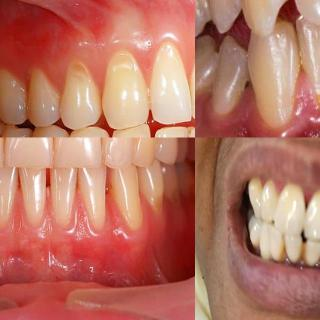Gum Swelling: (223, 70, 320, 138), (0, 190, 60, 247), (71, 34, 120, 97), (123, 24, 165, 86), (92, 195, 137, 249), (59, 191, 93, 250), (169, 25, 195, 71)
cavities: (238, 78, 254, 95)
maligned: (214, 36, 251, 122), (195, 32, 217, 96), (302, 237, 320, 270), (286, 233, 301, 265), (269, 225, 283, 259), (311, 238, 312, 238)
stains: (286, 45, 316, 109)
